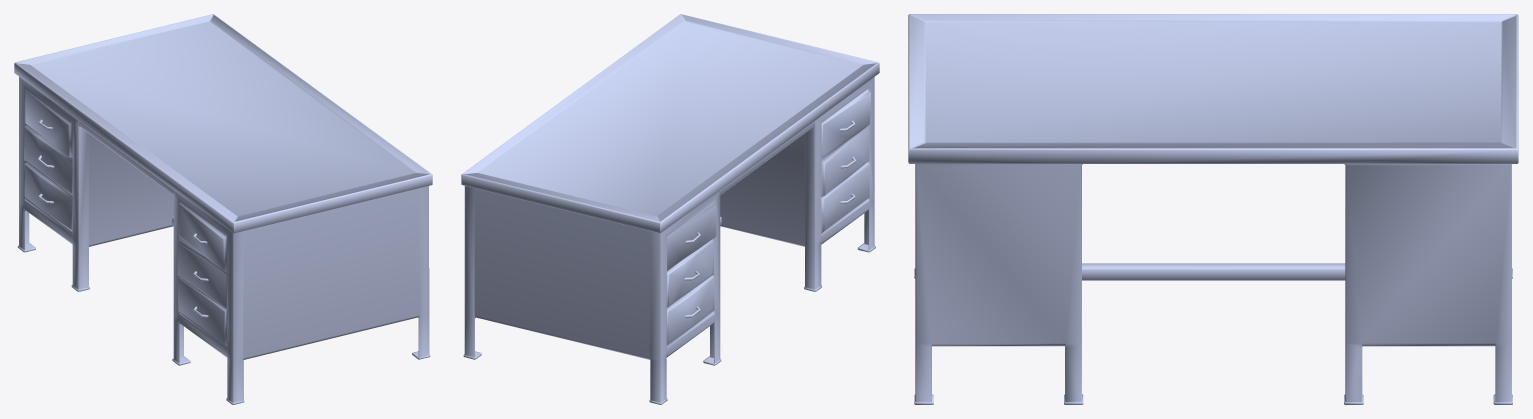
The model's file is table2.fbx.
3 views of the same model, side by side, from view 1: azimuth 30°, elevation 25°; view 2: azimuth 150°, elevation 25°; view 3: azimuth 270°, elevation 25° (orthographic). The views are drawn at different scales.
Visible parts, largest first — view 1: mex_tablem01_00; view 2: mex_tablem01_00; view 3: mex_tablem01_00.
Boxes of the visible parts, box(x1,y1,x2,y2) form: mex_tablem01_00: box(14, 14, 432, 404); mex_tablem01_00: box(461, 14, 879, 404); mex_tablem01_00: box(908, 14, 1518, 404).
Bounding box in the file's own units: 120 × 103 × 223.
